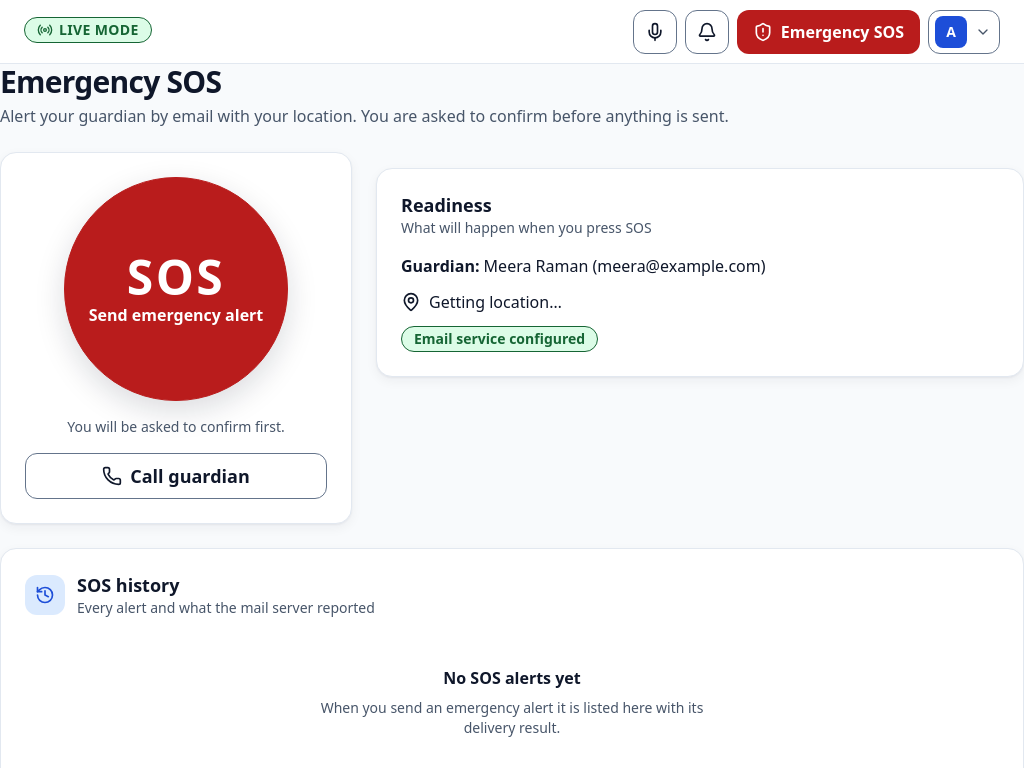
Test: SOS confirm and send › a pending permission prompt does not block: waits about 2 seconds, then sends without coordinates
Expected: the text "Meera Raman (meera@example.com)" is shown, [484,255,766,277]
Click the button "SOS Send emergency alert" at (176, 289), box [64,177,288,401]
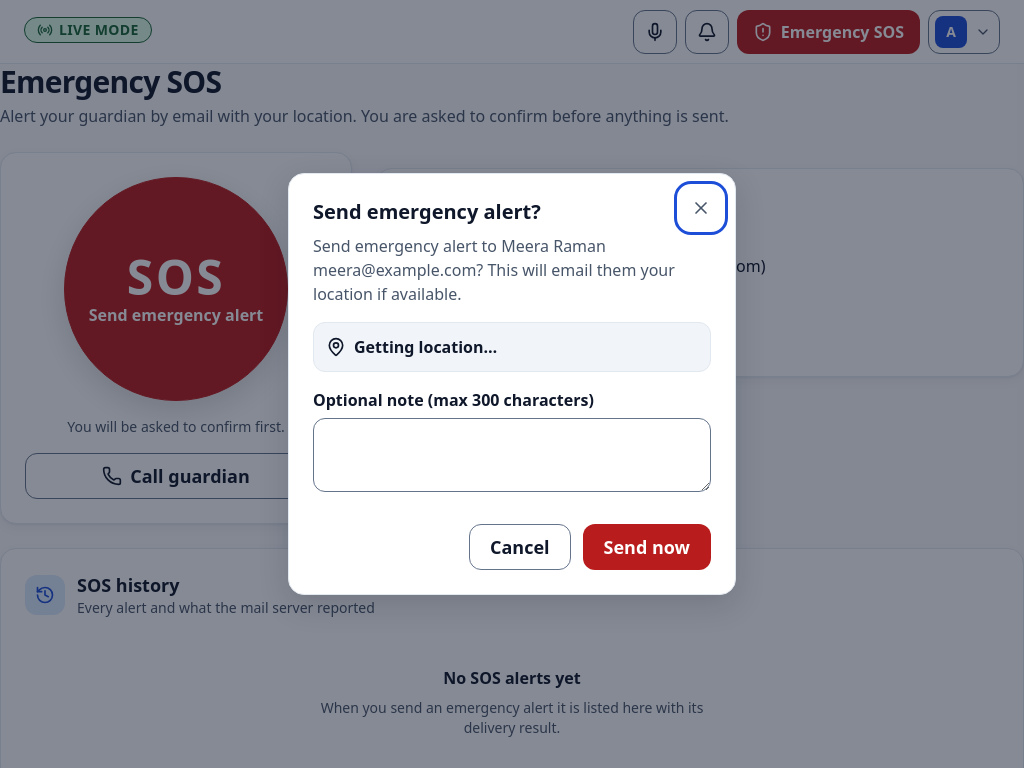
Click the button "Send now" at (647, 547), box [582,524,711,570]
Wait 2500 ms
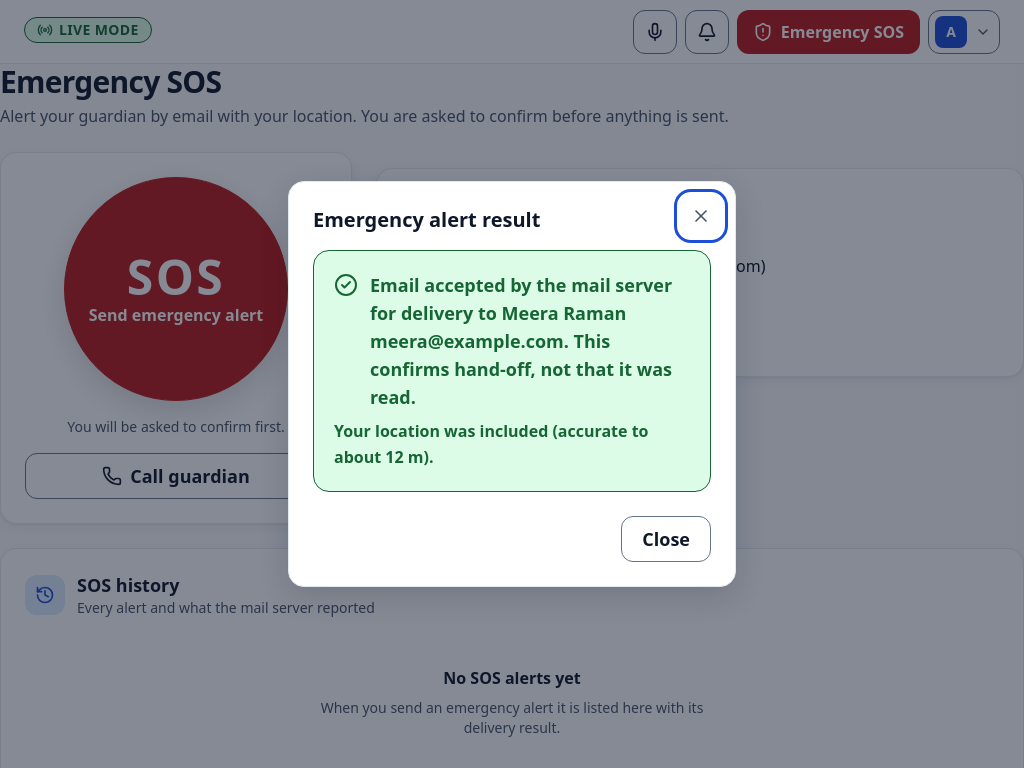
Now the text "Sending without location in a moment…" is shown, box [370,271,690,411]
